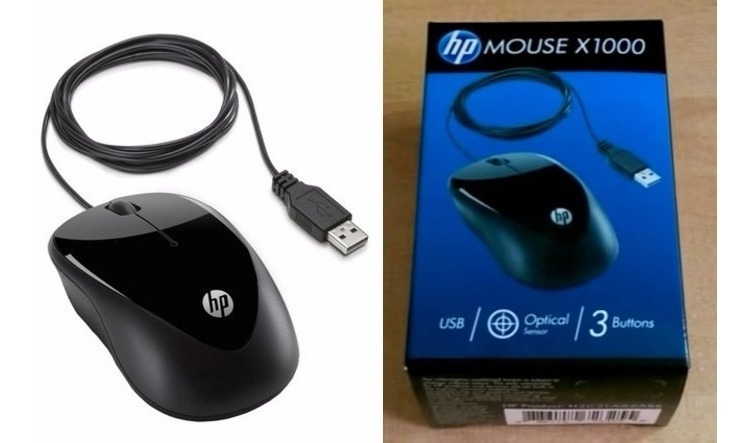hp-mouse-X1000: (42, 22, 361, 422)
